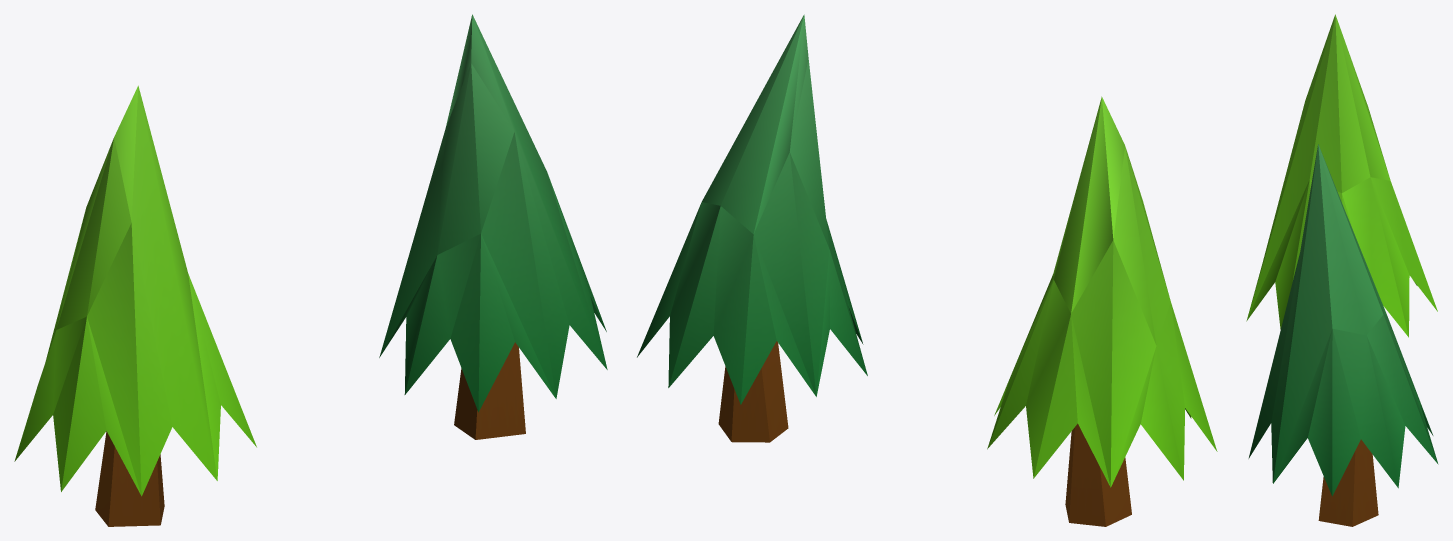
Rendered from Trees_LOD1.fbx.
The picture shows the model from 3 angles, left to right: view 1: azimuth 30°, elevation 25°; view 2: azimuth 150°, elevation 25°; view 3: azimuth 270°, elevation 25°; orthographic projection. The views are drawn at different scales.
Visible parts, largest first — view 1: Tree2_LOD1, Tree1_LOD1; view 2: Tree2_LOD1, Tree1_LOD1; view 3: Tree1_LOD1, Tree2_LOD1.
Part boxes in pixels (x1,y1,x2,y2): Tree2_LOD1: [14, 85, 256, 526]; Tree1_LOD1: [379, 14, 607, 439]; Tree2_LOD1: [987, 96, 1217, 526]; Tree1_LOD1: [637, 14, 867, 442]; Tree1_LOD1: [1248, 144, 1438, 526]; Tree2_LOD1: [1246, 14, 1437, 337].
Size of the model in its own units: 316 by 229 by 112.
